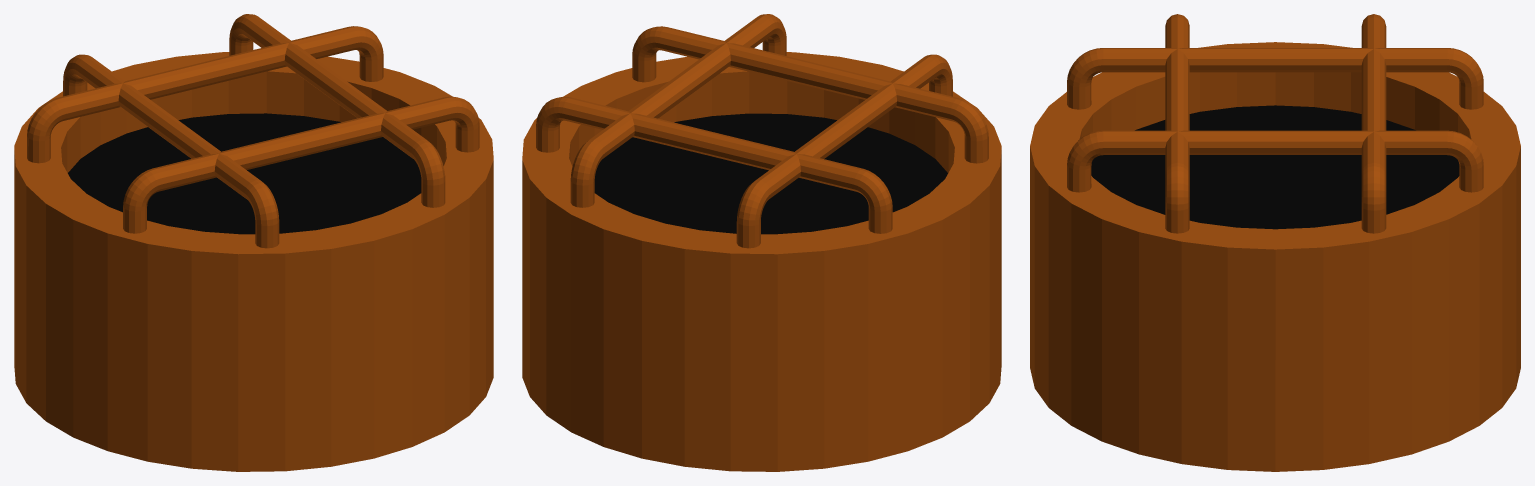
File: PipeVent.fbx
3 renders of one model, left to right at view 1: azimuth 30°, elevation 25°; view 2: azimuth 150°, elevation 25°; view 3: azimuth 270°, elevation 25°, orthographic. The views are drawn at different scales.
Visible parts, largest first — view 1: Cylinder, 1; view 2: Cylinder, 1; view 3: Cylinder, 1.
Boxes of the visible parts, left/top/right/bottom form: Cylinder: left=14, top=52, right=493, bottom=471; 1: left=27, top=14, right=479, bottom=248; Cylinder: left=522, top=52, right=1001, bottom=471; 1: left=536, top=14, right=988, bottom=248; Cylinder: left=1030, top=42, right=1520, bottom=471; 1: left=1067, top=14, right=1483, bottom=233.
Size of the model in its own units: 100 by 62.5 by 100.
